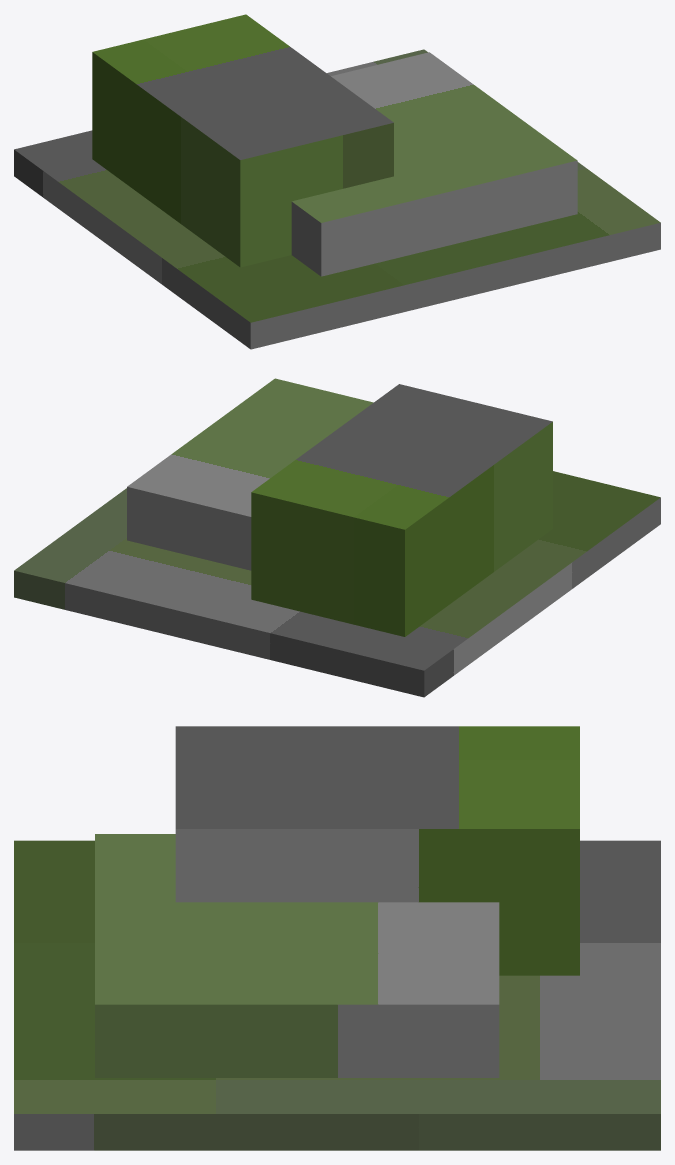
Rendered from rock.obj.
The picture shows the model from 3 angles, top to bottom: view 1: azimuth 30°, elevation 25°; view 2: azimuth 150°, elevation 25°; view 3: azimuth 270°, elevation 25°; orthographic projection. The views are drawn at different scales.
Visible parts, largest first — view 1: cube; view 2: cube; view 3: cube.
Boxes of the visible parts, x1,y1,x2,y2 form: cube: (14, 14, 660, 349); cube: (14, 378, 660, 697); cube: (14, 726, 660, 1150).
Bounding box in the file's own units: 1 × 0.3125 × 1.
1 material, 1 textured.
